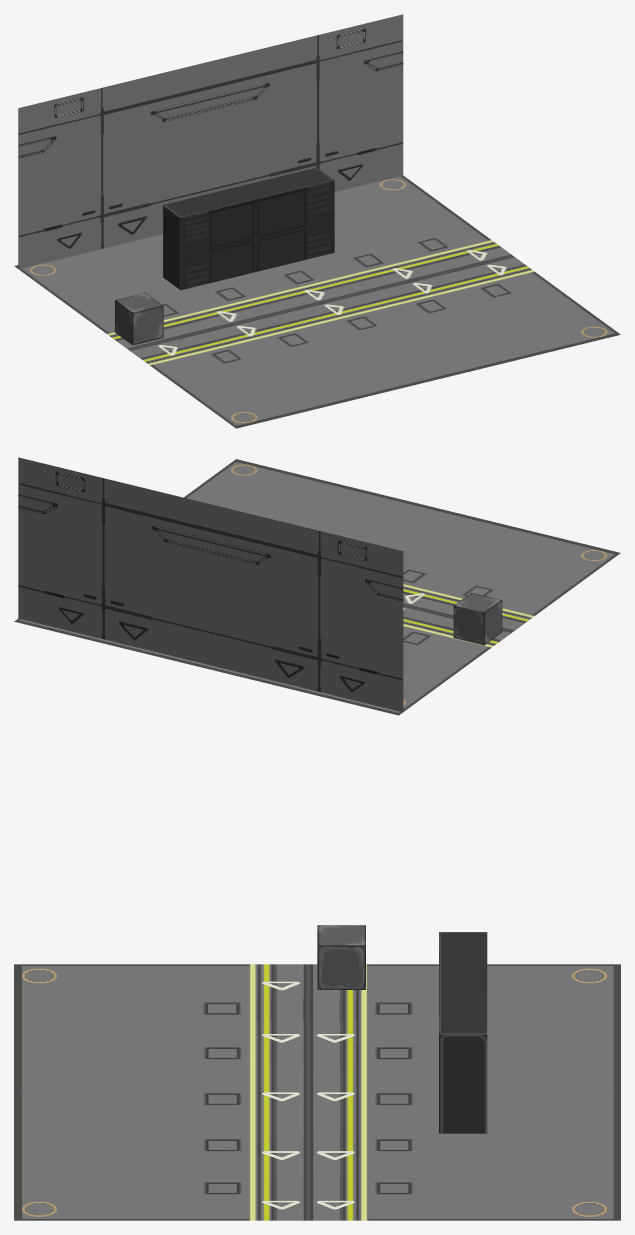
The model's file is ModelsFBX.fbx.
The picture shows the model from 3 angles, top to bottom: view 1: azimuth 30°, elevation 25°; view 2: azimuth 150°, elevation 25°; view 3: azimuth 270°, elevation 25°; orthographic projection. The views are drawn at different scales.
Parts seen in each view (by area): view 1: Piso, Pared2, pCube3, pCube2; view 2: Pared2, Piso, pCube2; view 3: Piso, pCube3, pCube2.
Boxes of the visible parts, <box> form: Piso: <box>14,175,620,428</box>; Pared2: <box>18,14,403,269</box>; pCube3: <box>163,167,334,290</box>; pCube2: <box>115,292,163,345</box>; Pared2: <box>18,457,403,712</box>; Piso: <box>14,459,620,715</box>; pCube2: <box>453,592,502,645</box>; Piso: <box>14,964,620,1220</box>; pCube3: <box>439,932,487,1133</box>; pCube2: <box>317,925,365,989</box>.
Bounding box in the file's own units: 25 × 10.5 × 25.
Materials: 1 (1 with a texture image).
